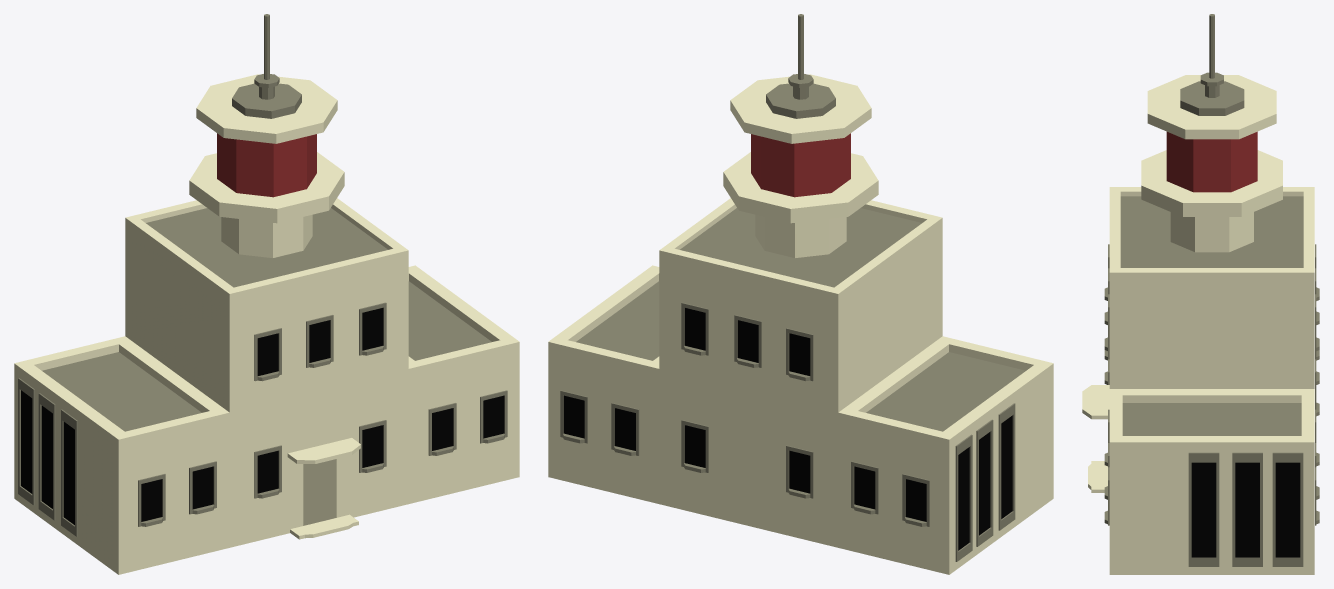
The model's file is buildings1.fbx.
3 renders of one model, left to right at view 1: azimuth 30°, elevation 25°; view 2: azimuth 150°, elevation 25°; view 3: azimuth 270°, elevation 25°, orthographic.
Visible parts, largest first — view 1: Building; view 2: Building; view 3: Building.
Boxes of the visible parts, x1,y1,x2,y2 form: Building: (14,14,519,574); Building: (548,14,1053,574); Building: (1082,14,1319,574).
Bounding box in the file's own units: 448 × 499 × 232.
Materials: 1 (1 with a texture image).
